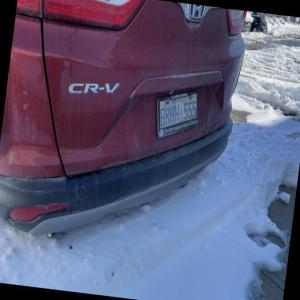Plate: (157, 89, 198, 139)
